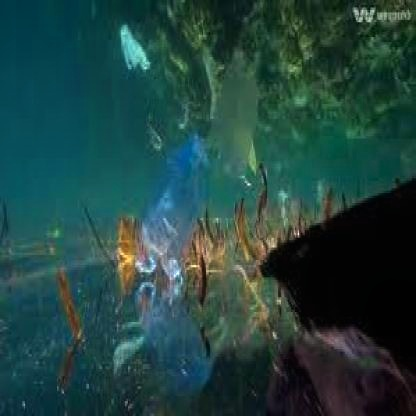pbag: (135, 67, 257, 275)
